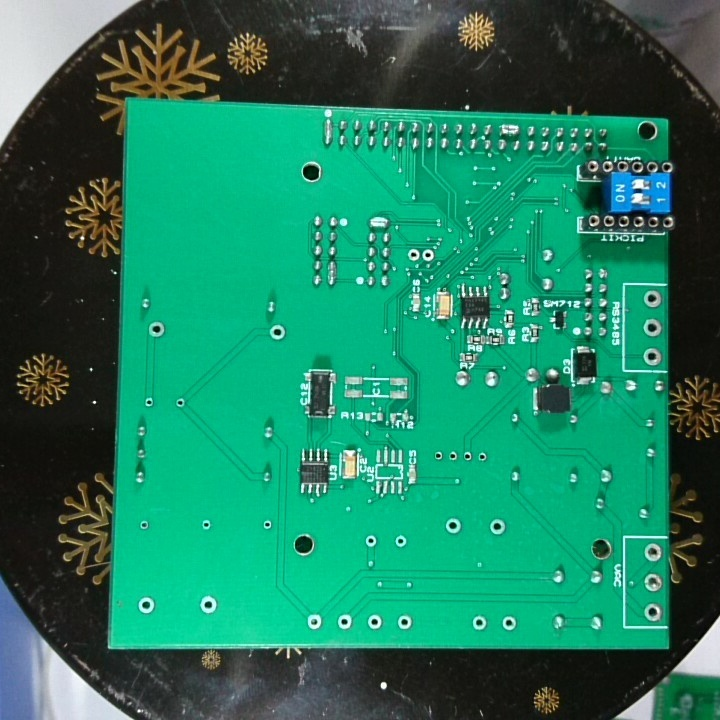F: (641, 288, 664, 312), (641, 571, 664, 595), (304, 610, 327, 634), (641, 316, 663, 340), (135, 594, 157, 618), (642, 600, 664, 623), (197, 594, 219, 617), (468, 612, 490, 634), (443, 515, 465, 537), (642, 345, 663, 367), (487, 516, 508, 538), (266, 322, 288, 343), (334, 610, 354, 633), (394, 612, 415, 633), (146, 319, 167, 340), (499, 613, 519, 635), (365, 610, 382, 635), (642, 542, 662, 563), (361, 532, 380, 551), (391, 532, 410, 550), (169, 394, 188, 412), (420, 246, 436, 266), (430, 447, 446, 466), (405, 246, 421, 265), (475, 447, 490, 467), (137, 516, 153, 533), (259, 516, 275, 533), (141, 393, 157, 410), (460, 447, 474, 466), (199, 516, 214, 533), (446, 447, 459, 466)
P: (325, 258, 339, 290), (322, 116, 335, 150), (496, 121, 522, 138), (367, 214, 391, 231)
